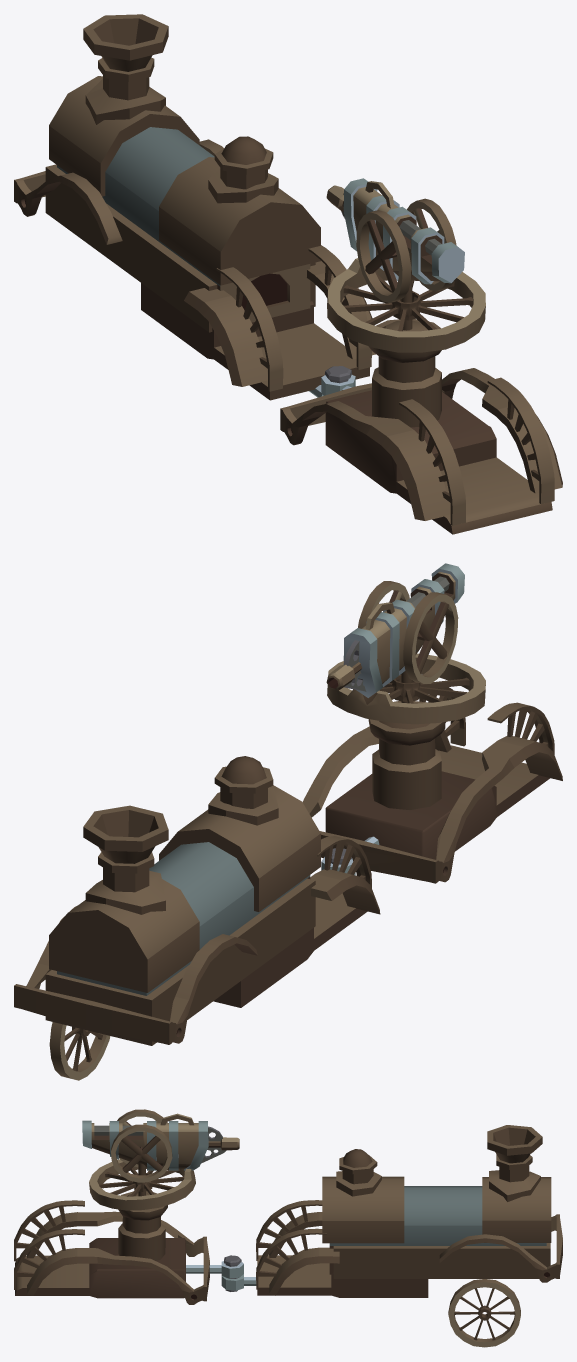
File: train.glb
3 views of the same model, one above another, from view 1: azimuth 30°, elevation 25°; view 2: azimuth 150°, elevation 25°; view 3: azimuth 270°, elevation 25° (orthographic). The views are drawn at different scales.
Visible parts, largest first — view 1: train, cart, gun; view 2: train, gun, cart, wheel; view 3: train, cart, gun, wheel.
Part boxes in pixels (<box>): train: <box>14,14,375,400</box>; cart: <box>280,366,562,534</box>; gun: <box>326,178,485,427</box>; train: <box>14,756,380,1045</box>; gun: <box>326,563,485,809</box>; cart: <box>302,687,562,883</box>; wheel: <box>49,1022,110,1080</box>; train: <box>221,1125,562,1297</box>; cart: <box>14,1200,243,1304</box>; gun: <box>82,1109,239,1260</box>; wheel: <box>448,1279,520,1347</box>.
Bounding box in the file's own units: 3.29 × 6.42 × 15.2.
Materials: 1 (1 with a texture image).
